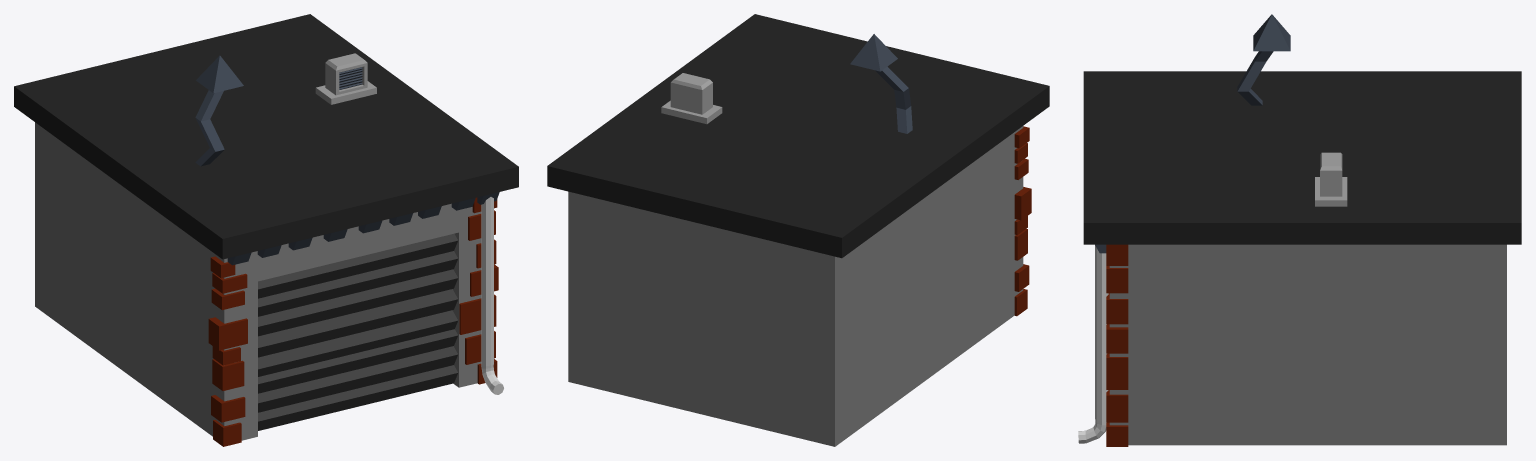
Rendered from ArmazemGenerico.fbx.
3 renders of one model, left to right at view 1: azimuth 30°, elevation 25°; view 2: azimuth 150°, elevation 25°; view 3: azimuth 270°, elevation 25°, orthographic. The views are drawn at different scales.
Parts seen in each view (by area): view 1: ArmazenGenerico; view 2: ArmazenGenerico; view 3: ArmazenGenerico.
Part boxes in pixels (bbox=[...]): ArmazenGenerico: bbox=[14, 14, 518, 446]; ArmazenGenerico: bbox=[547, 14, 1049, 446]; ArmazenGenerico: bbox=[1078, 14, 1521, 446].
Bounding box in the file's own units: 523 × 537 × 646.
1 material, 1 textured.
